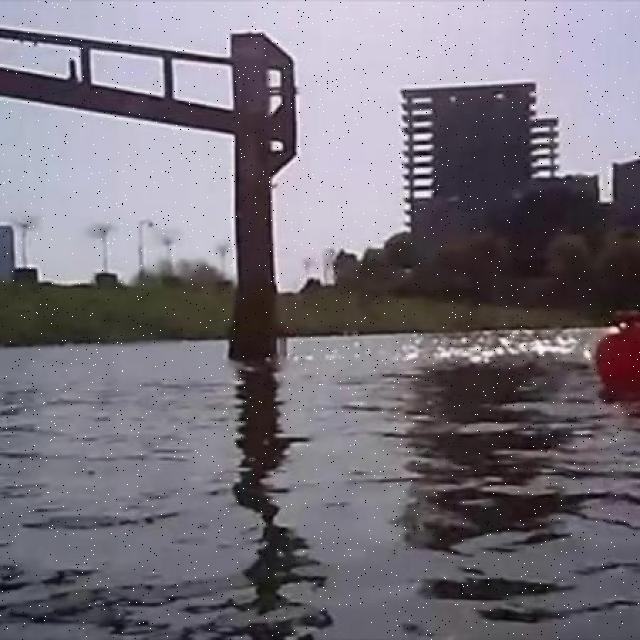buoy: (594, 312, 639, 385)
